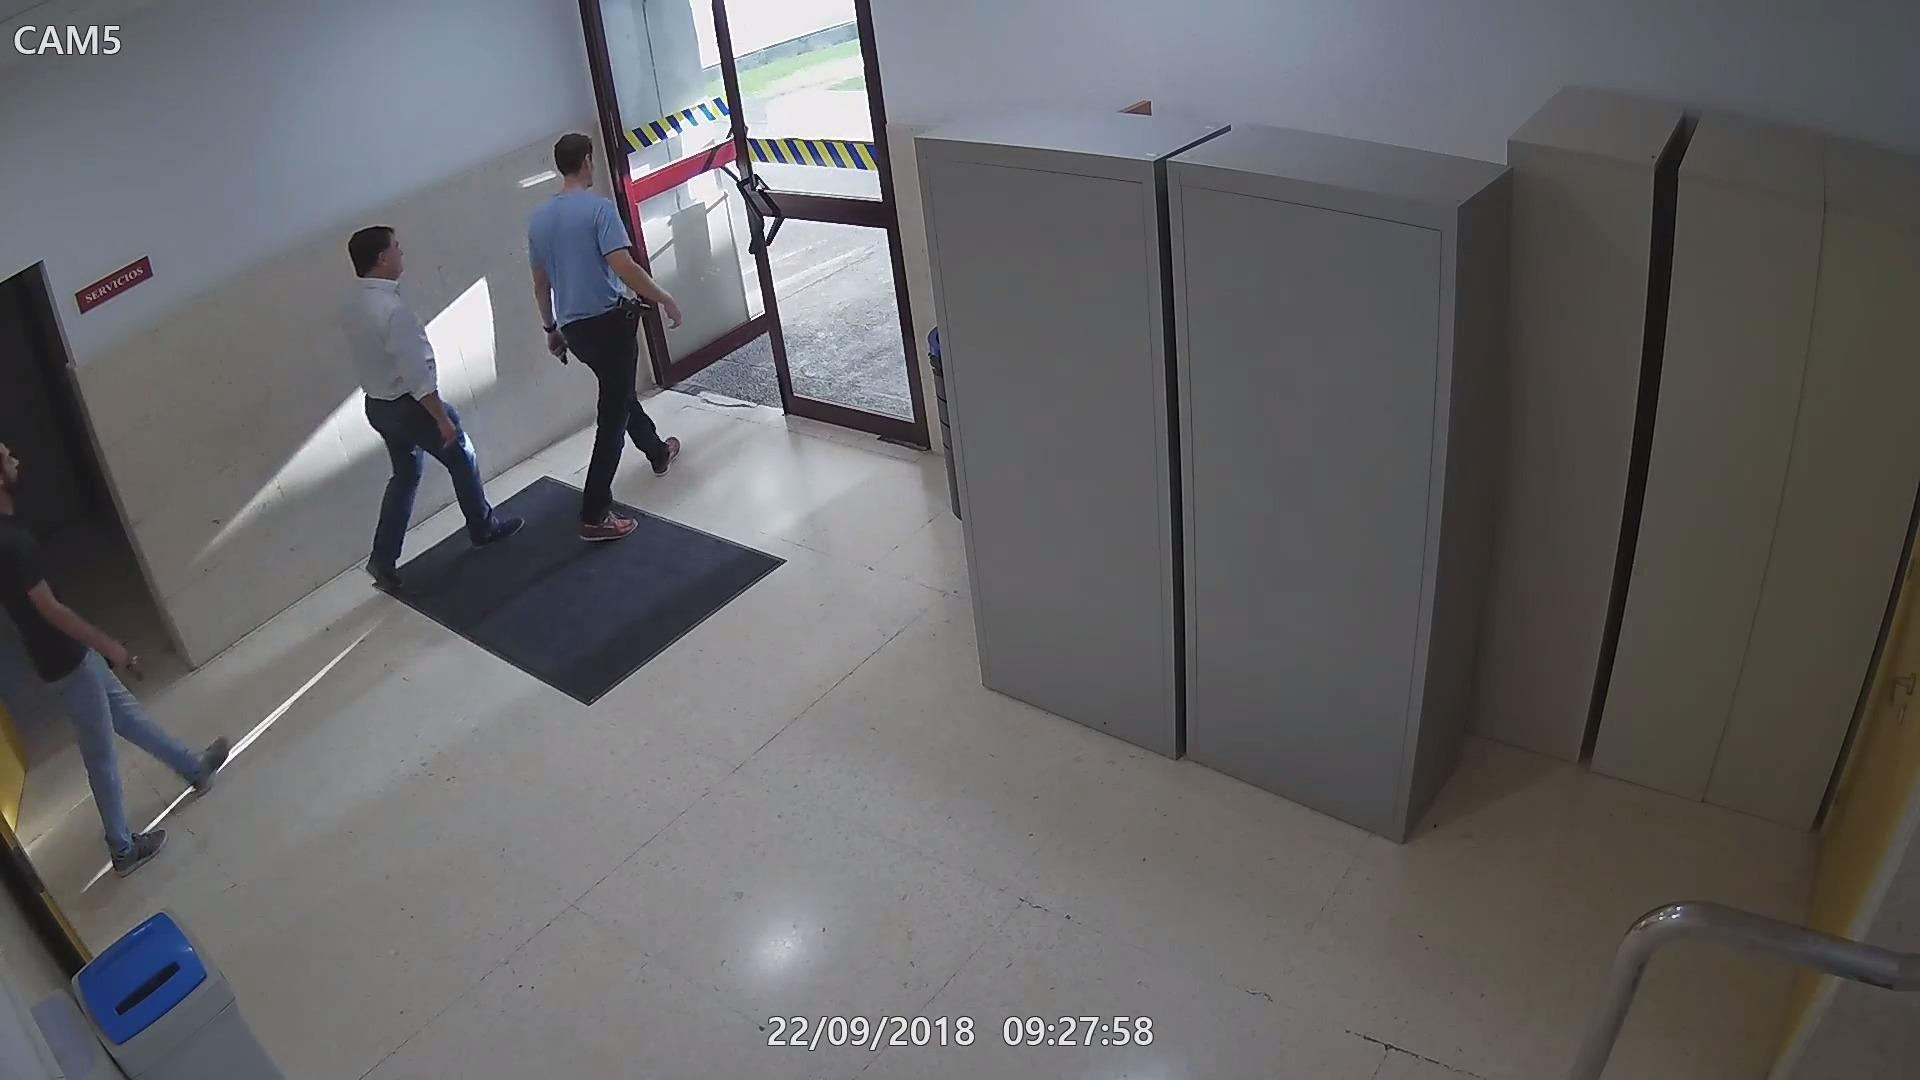Handgun: (104, 638, 146, 682), (617, 295, 646, 345)
